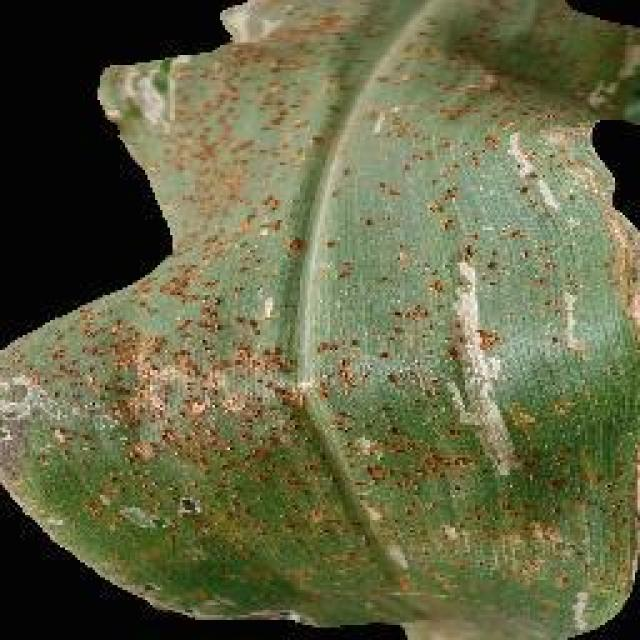Corn Common Rust: (110, 4, 535, 638)
